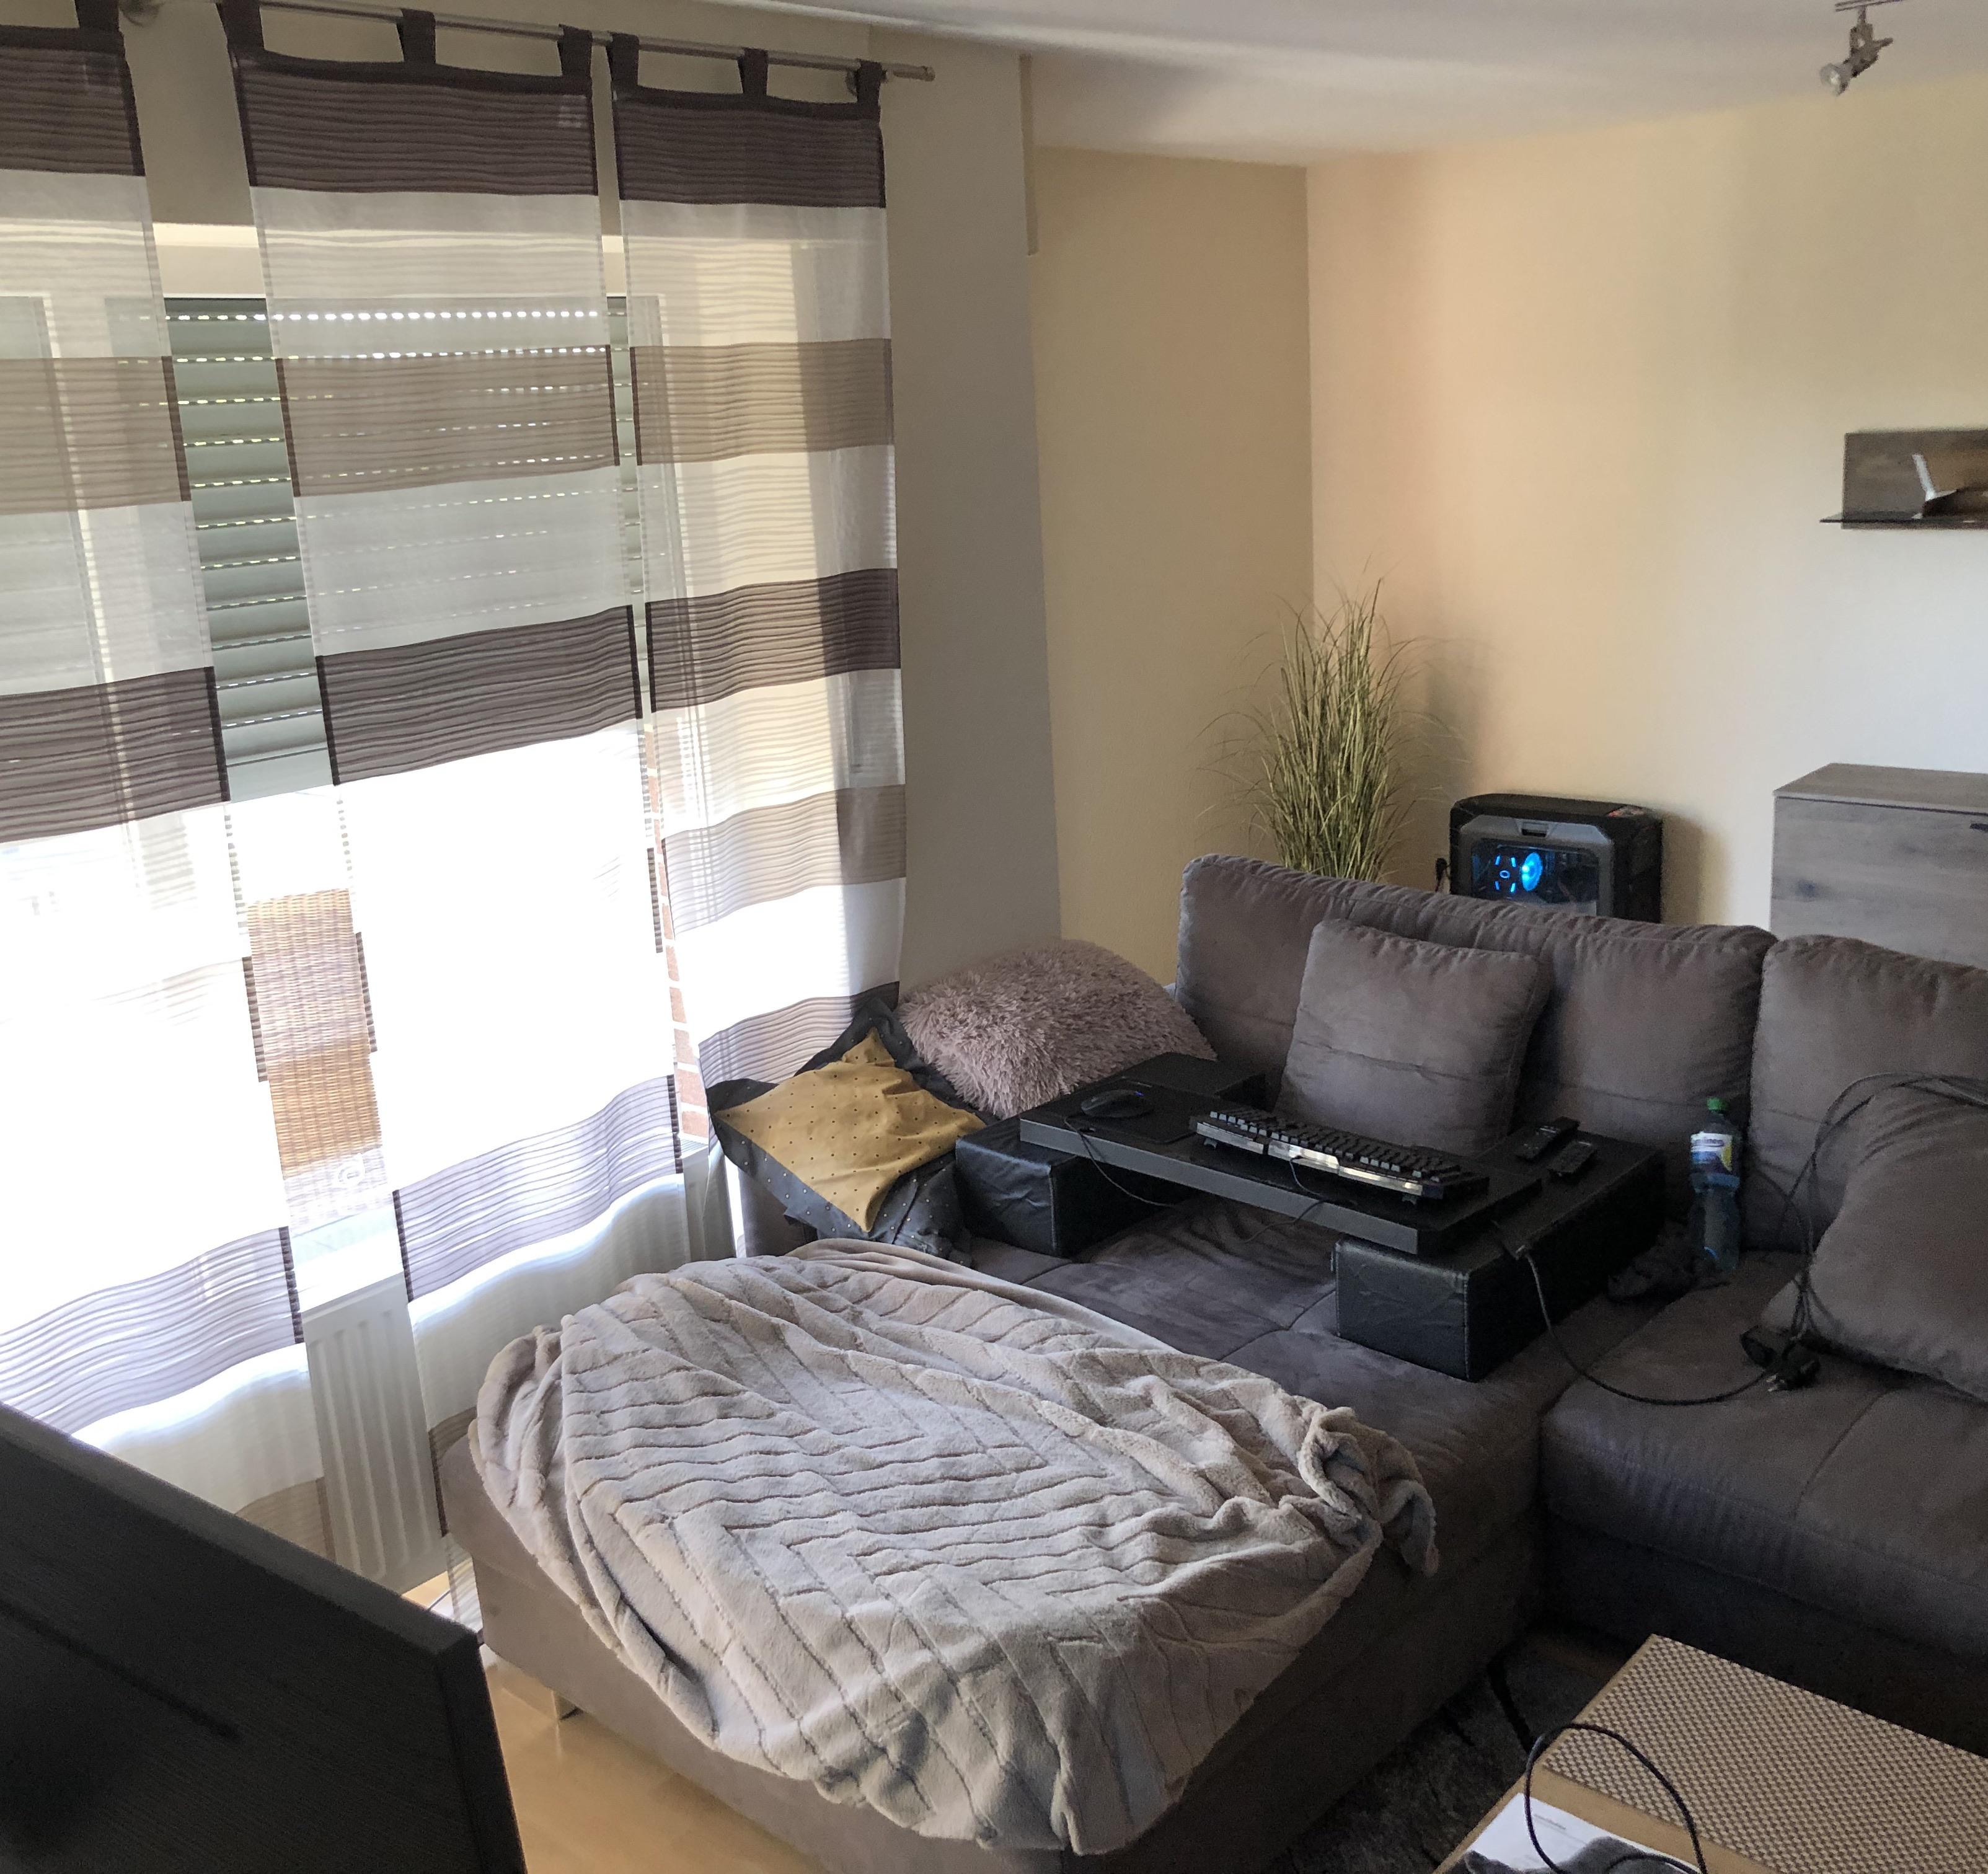Desktop (Generic): (1449, 793, 1664, 926)
Keyboard (Generic): (1187, 1103, 1490, 1212)
Mouse (Gaming): (1081, 1088, 1155, 1124)
Water Bottle: (1680, 1094, 1749, 1272)
